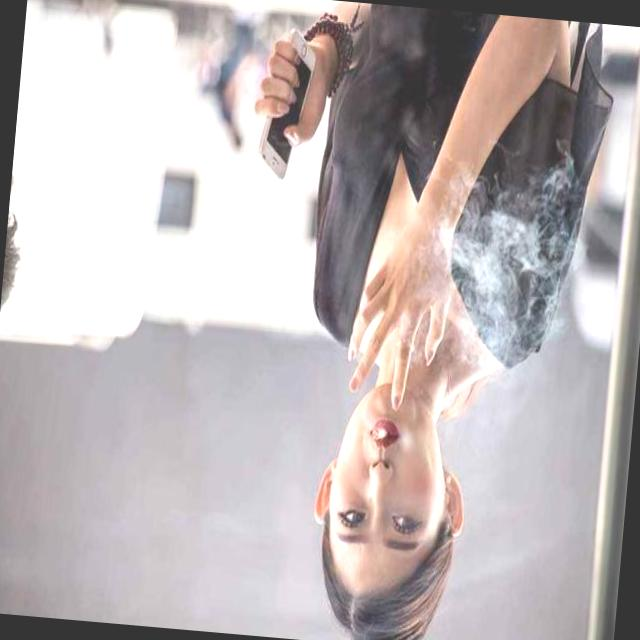smoke: (371, 424, 388, 439)
